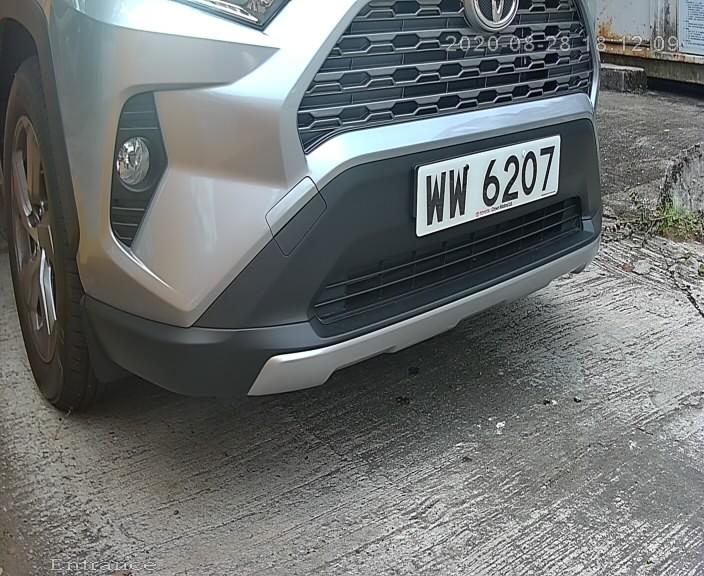License Plate: (406, 127, 573, 245)
